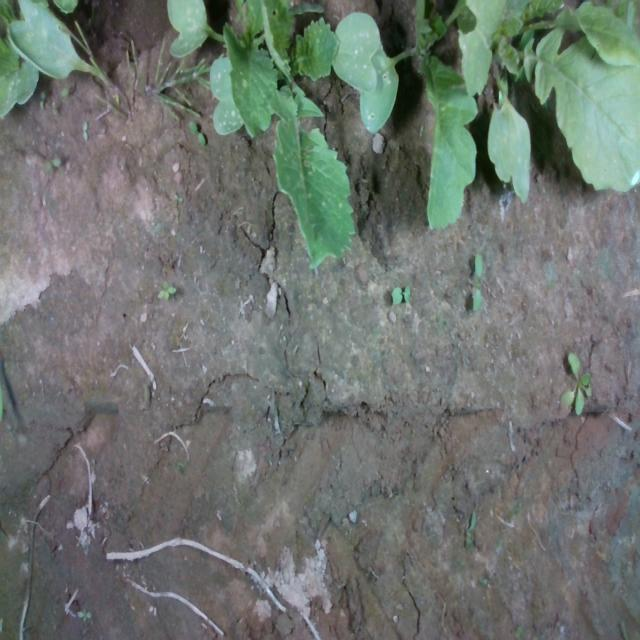weed: (470, 251, 484, 312), (156, 274, 176, 302), (388, 282, 412, 305), (188, 119, 205, 149), (80, 118, 88, 142)
